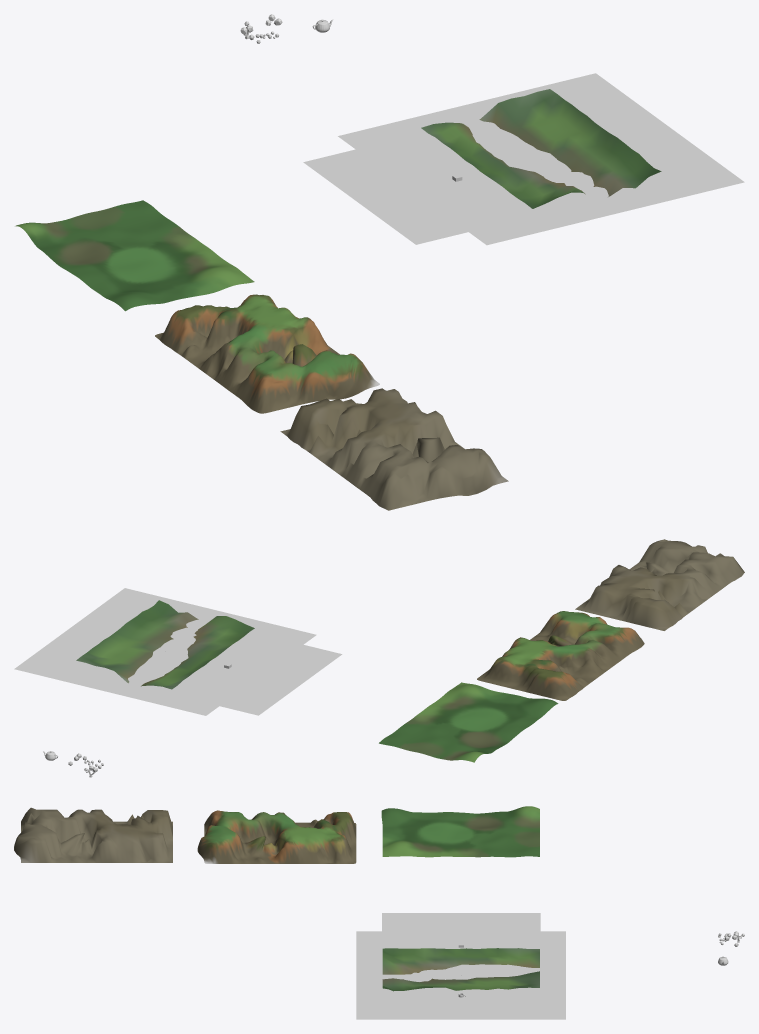
Rendered from course3.glb.
The picture shows the model from 3 angles, top to bottom: view 1: azimuth 30°, elevation 25°; view 2: azimuth 150°, elevation 25°; view 3: azimuth 270°, elevation 25°; orthographic projection. The views are drawn at different scales.
Parts seen in each view (by area): view 1: Plane.001, Plane, CliffyCourse.001, CliffyCourse, Couse1, RiverCourse.colonly; view 2: Plane.001, CliffyCourse.001, CliffyCourse, Couse1, Plane, RiverCourse.colonly; view 3: Plane.001, CliffyCourse.001, CliffyCourse, Couse1, RiverCourse.colonly, Plane.
Part boxes in pixels (x1=…): Plane.001: x1=338, y1=73, x2=744, y2=245; Plane: x1=303, y1=119, x2=607, y2=244; CliffyCourse.001: x1=280, y1=388, x2=508, y2=510; CliffyCourse: x1=155, y1=294, x2=379, y2=413; Couse1: x1=15, y1=200, x2=254, y2=311; RiverCourse.colonly: x1=421, y1=89, x2=661, y2=208; Plane.001: x1=14, y1=588, x2=316, y2=715; CliffyCourse.001: x1=575, y1=539, x2=744, y2=630; CliffyCourse: x1=477, y1=611, x2=644, y2=700; Couse1: x1=379, y1=682, x2=558, y2=762; Plane: x1=113, y1=619, x2=342, y2=715; RiverCourse.colonly: x1=76, y1=600, x2=254, y2=689; Plane.001: x1=356, y1=931, x2=565, y2=1019; CliffyCourse.001: x1=14, y1=807, x2=172, y2=862; CliffyCourse: x1=197, y1=810, x2=356, y2=863; Couse1: x1=381, y1=806, x2=539, y2=857; RiverCourse.colonly: x1=382, y1=948, x2=539, y2=991; Plane: x1=382, y1=913, x2=540, y2=979.
Size of what is drawn, in the model's own units: 187 by 9.44 by 279.
